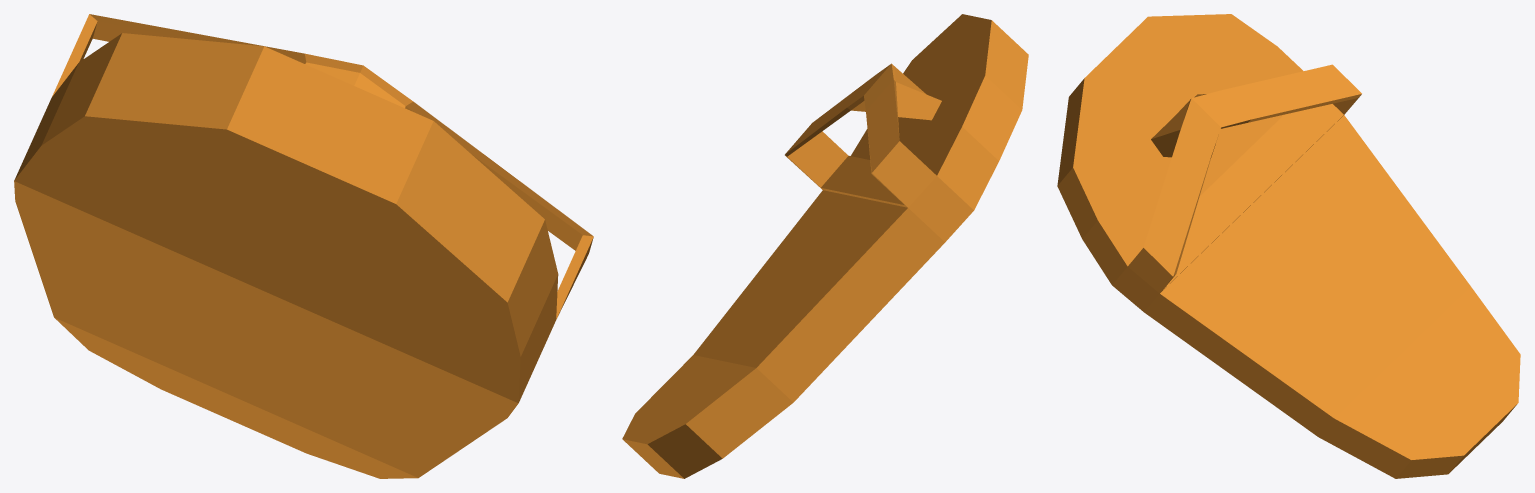
The model's file is CHANCLA power up.glb.
The picture shows the model from 3 angles, left to right: view 1: azimuth 30°, elevation 25°; view 2: azimuth 150°, elevation 25°; view 3: azimuth 270°, elevation 25°; orthographic projection. The views are drawn at different scales.
Visible parts, largest first — view 1: Cube; view 2: Cube; view 3: Cube.
Part boxes in pixels (x1,y1,x2,y2): Cube: [14, 14, 593, 478]; Cube: [622, 14, 1028, 478]; Cube: [1057, 14, 1520, 478].
Size of the model in its own units: 0.3836 by 0.4903 by 0.5513.
